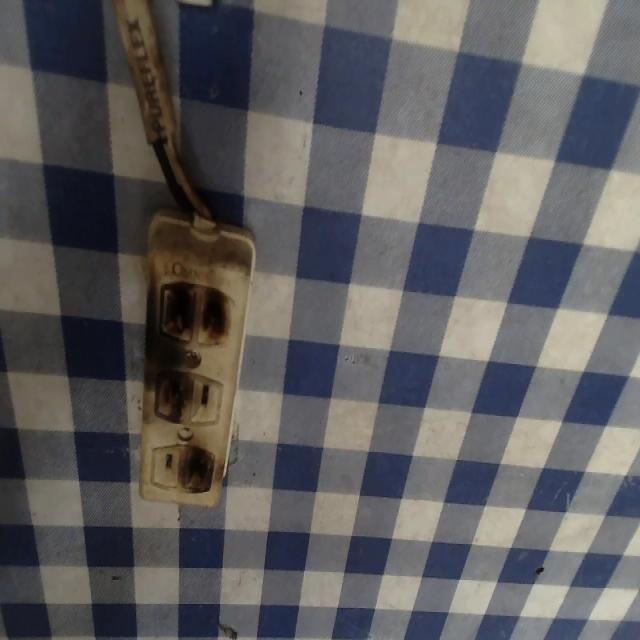-: (157, 278, 232, 350), (149, 367, 194, 420), (180, 443, 214, 489)
